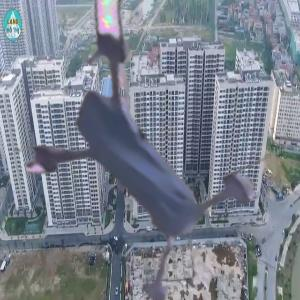drone: (7, 3, 296, 292)
